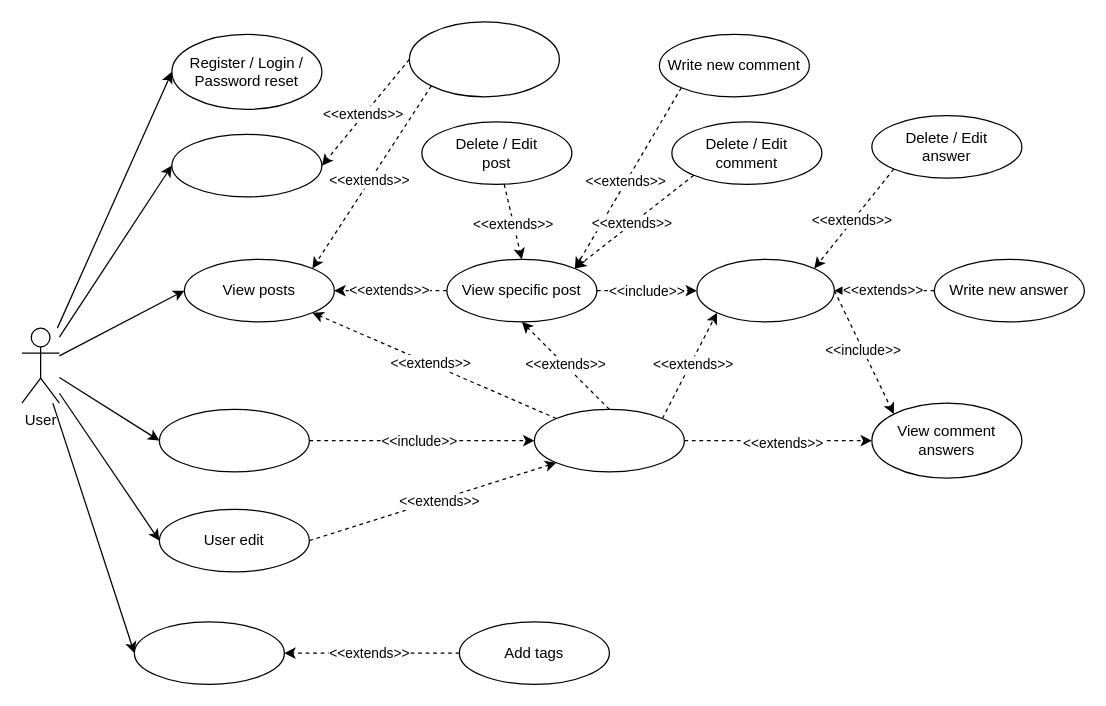
Some shapes in this 1106 by 706 pixel diagram are drawn without their labels. The shapes that lost their labels are listed below. From the top down, each one's centre as x and y in pixels, then its label:
point (483, 59): Sorting and filtering posts
point (246, 165): View tags
point (765, 290): View post comments
point (233, 440): View my posts
point (608, 440): View user page
point (208, 652): Write new post
